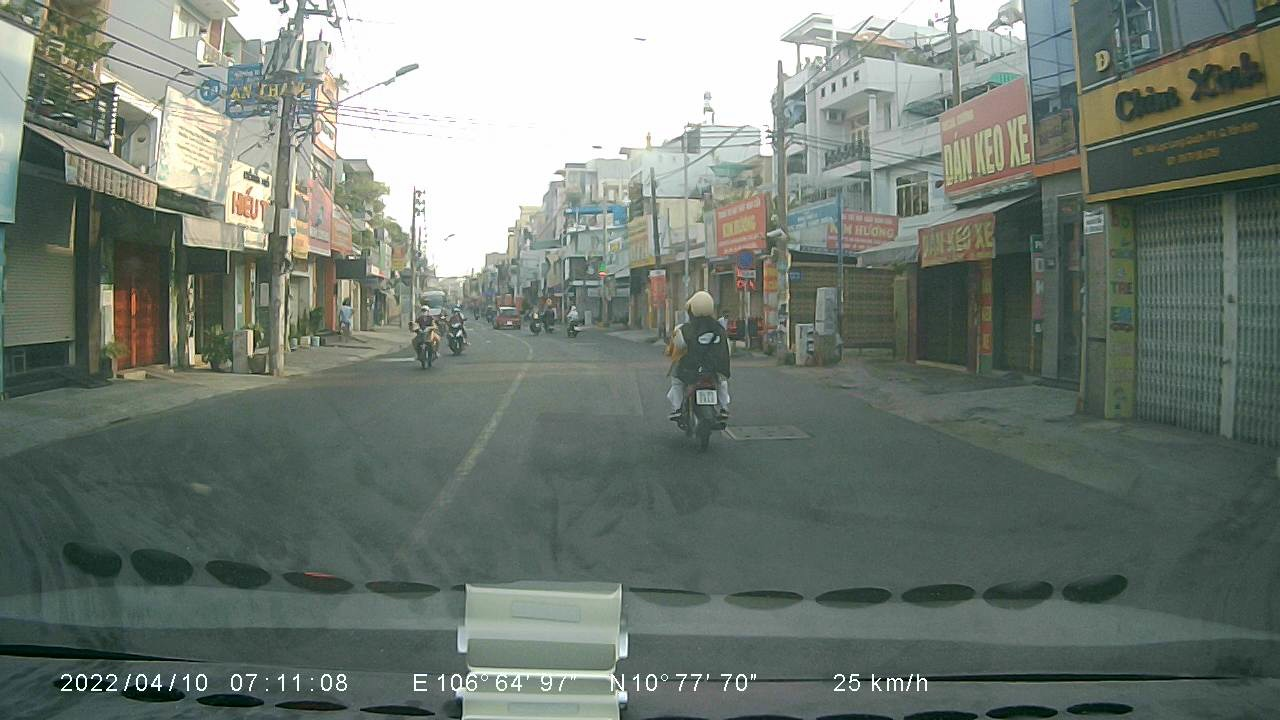Cam do xe: (733, 246, 761, 268)
